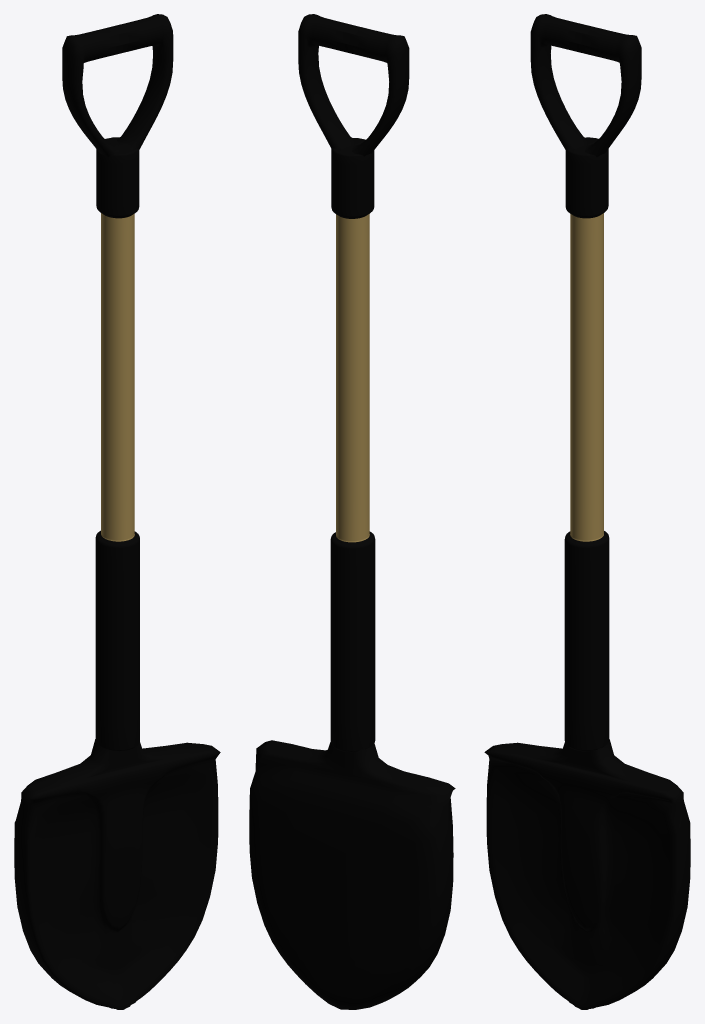
The model's file is shovel.fbx.
3 renders of one model, left to right at view 1: azimuth 30°, elevation 25°; view 2: azimuth 150°, elevation 25°; view 3: azimuth 330°, elevation 25°, orthographic.
Parts seen in each view (by area): view 1: pCube2; view 2: pCube2; view 3: pCube2.
Part boxes in pixels (x1=…): pCube2: x1=14, y1=14, x2=220, y2=1009; pCube2: x1=249, y1=14, x2=455, y2=1009; pCube2: x1=484, y1=14, x2=690, y2=1009.
Bounding box in the file's own units: 2.24 × 10.78 × 0.5308.
